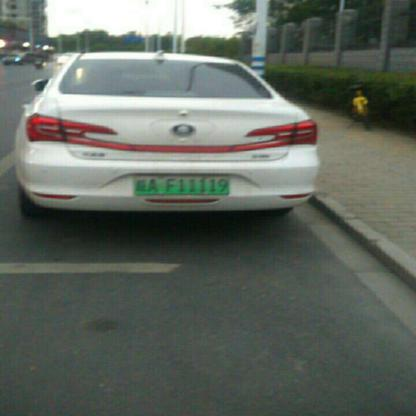lp: (135, 174, 227, 194)
